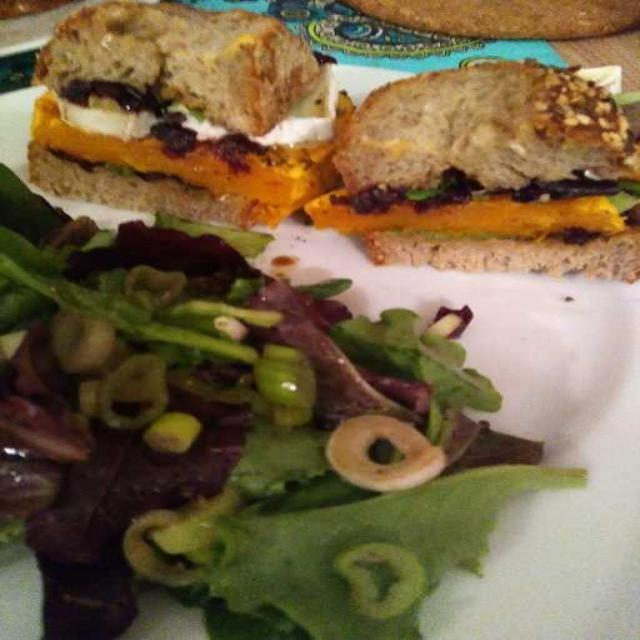bread: (38, 6, 638, 201)
pumpkin: (303, 188, 627, 239)
salad: (18, 204, 569, 626)
